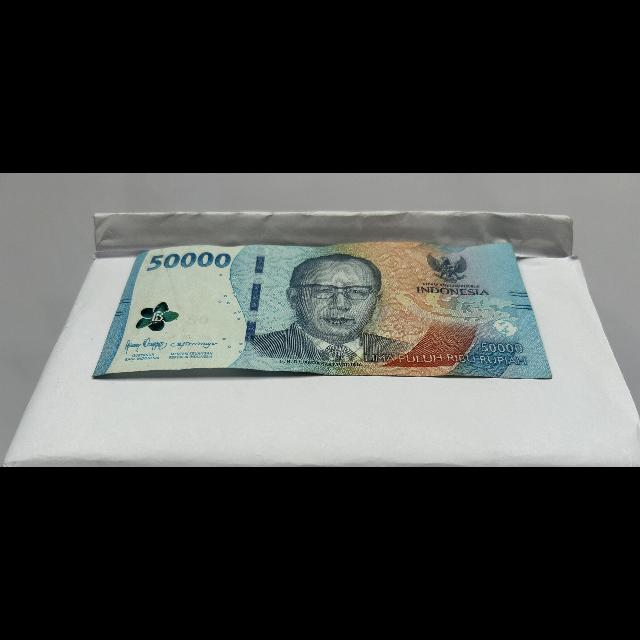Asli-50k: (89, 239, 556, 385)
Tinta-Asli-50k: (132, 288, 184, 343)
